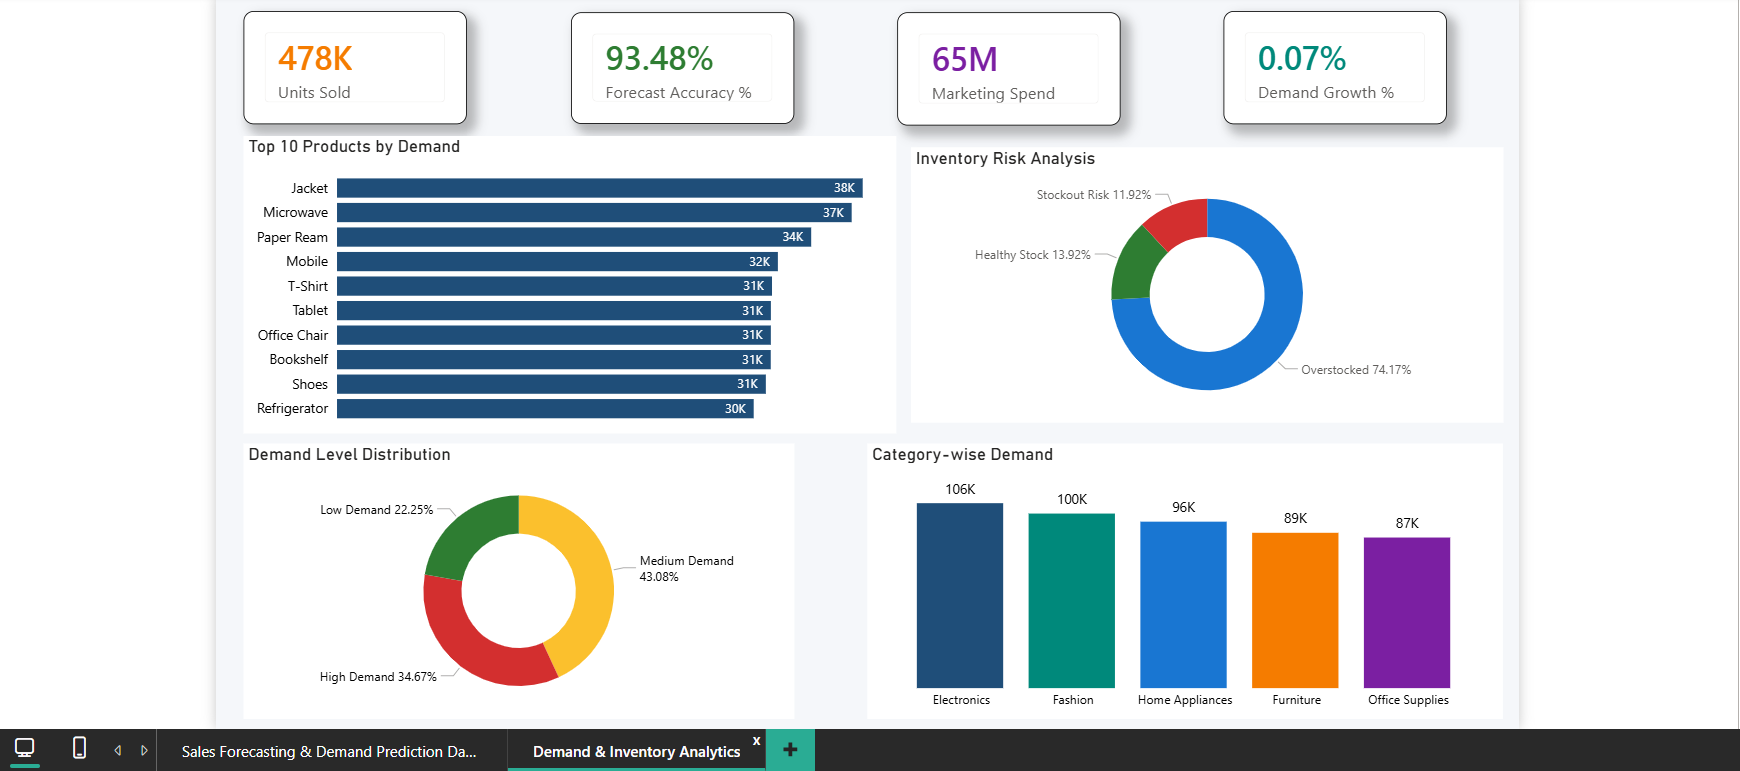

The page's visual inventory and layout, read from the dashboard file:
{"tool":"powerbi","page":{"name":"Demand & Inventory Analytics","canvas":[1280,720],"ordinal":1},"visuals":[{"type":"cardVisual","fields":{"Data":["DAX.Total Units Sold"]},"box":[27.4,15.1,219.6,111.1],"z":0},{"type":"cardVisual","fields":{"Data":["DAX.Forecast Accuracy %"]},"box":[348.5,16.5,219.6,109.8],"z":1000},{"type":"cardVisual","fields":{"Data":["DAX.Marketing Spend"]},"box":[668.3,16.5,219.6,111.1],"z":2000},{"type":"cardVisual","fields":{"Data":["DAX.Demand Growth %"]},"box":[989.4,15.1,219.6,111.1],"z":3000},{"type":"barChart","title":"Top 10 Products by Demand","fields":{"Category":["Fact_Sales.Product_Name"],"Y":["Sum(Fact_Sales.Units_Sold)"]},"box":[27.4,137.2,640.8,292.3],"z":4000},{"type":"donutChart","title":"Inventory Risk Analysis","fields":{"Category":["Fact_Sales.Stock_Risk"],"Y":["CountNonNull(Fact_Sales.Order_ID)"]},"box":[682,148.2,581.8,270.3],"z":5000},{"type":"columnChart","title":"Category-wise Demand","fields":{"Category":["Fact_Sales.Product_Category"],"Y":["Sum(Fact_Sales.Units_Sold)"]},"box":[639.5,439.1,624.4,270.3],"z":6000},{"type":"donutChart","title":"Demand Level Distribution","fields":{"Y":["CountNonNull(Fact_Sales.Order_ID)"],"Category":["Fact_Sales.Demand_Level"]},"box":[27.4,439.1,540.7,270.3],"z":7000}]}

Visuals, with their boxes on the page's 1280x720 design canvas (x1, y1, x2, y2). These are canvas units, not pixel positions in the 1740x771 screenshot, which may show the page scaled, cropped or inside an application window:
cardVisual - DAX.Total Units Sold: box(27, 15, 247, 126)
cardVisual - DAX.Forecast Accuracy %: box(348, 16, 568, 126)
cardVisual - DAX.Marketing Spend: box(668, 16, 888, 128)
cardVisual - DAX.Demand Growth %: box(989, 15, 1209, 126)
"Top 10 Products by Demand" barChart: box(27, 137, 668, 430)
"Inventory Risk Analysis" donutChart: box(682, 148, 1264, 418)
"Category-wise Demand" columnChart: box(640, 439, 1264, 709)
"Demand Level Distribution" donutChart: box(27, 439, 568, 709)
